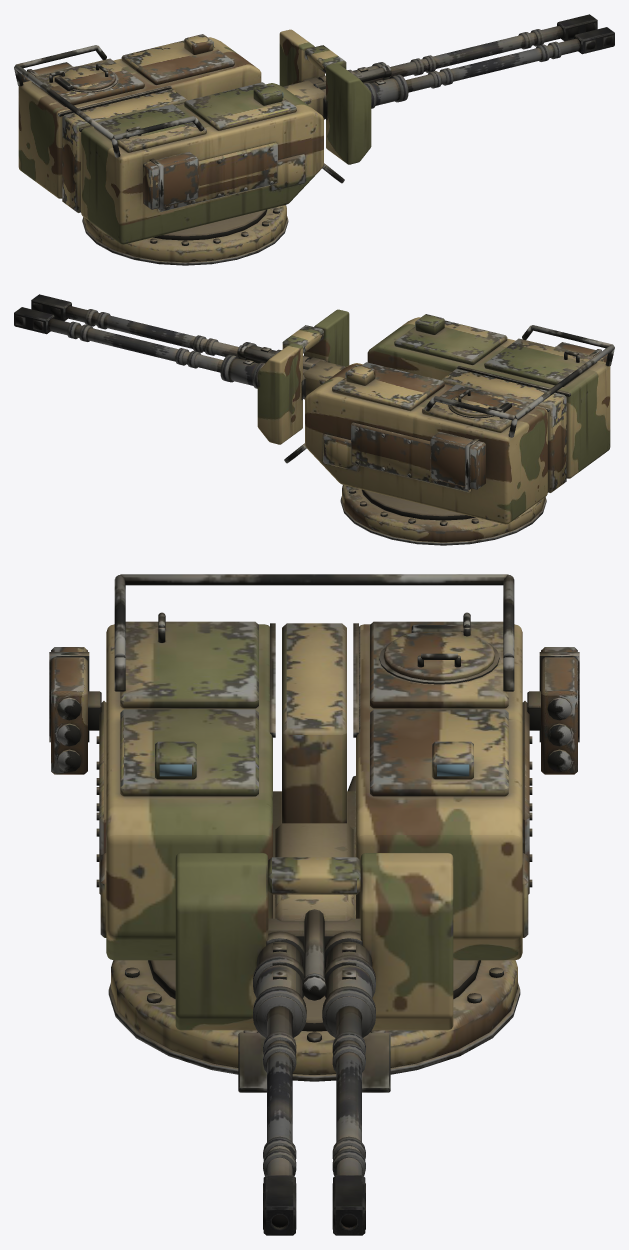
The model's file is turret_kit_t2_reed.glb.
3 views of the same model, one above another, from view 1: azimuth 30°, elevation 25°; view 2: azimuth 150°, elevation 25°; view 3: azimuth 270°, elevation 25° (orthographic). The views are drawn at different scales.
Visible parts, largest first — view 1: turret_twin_t2, guns, pods; view 2: turret_twin_t2, guns, pods; view 3: turret_twin_t2, guns, pods.
Boxes of the visible parts, <box> form: turret_twin_t2: <box>14,29,371,265</box>; guns: <box>283,14,614,119</box>; pods: <box>21,62,198,209</box>; turret_twin_t2: <box>257,309,614,545</box>; guns: <box>14,294,345,399</box>; pods: <box>430,342,607,489</box>; turret_twin_t2: <box>96,574,532,1092</box>; guns: <box>253,823,375,1235</box>; pods: <box>49,647,579,774</box>.
Size of the model in its own units: 2.7 by 0.722 by 1.15.
4 materials, 3 textured.
